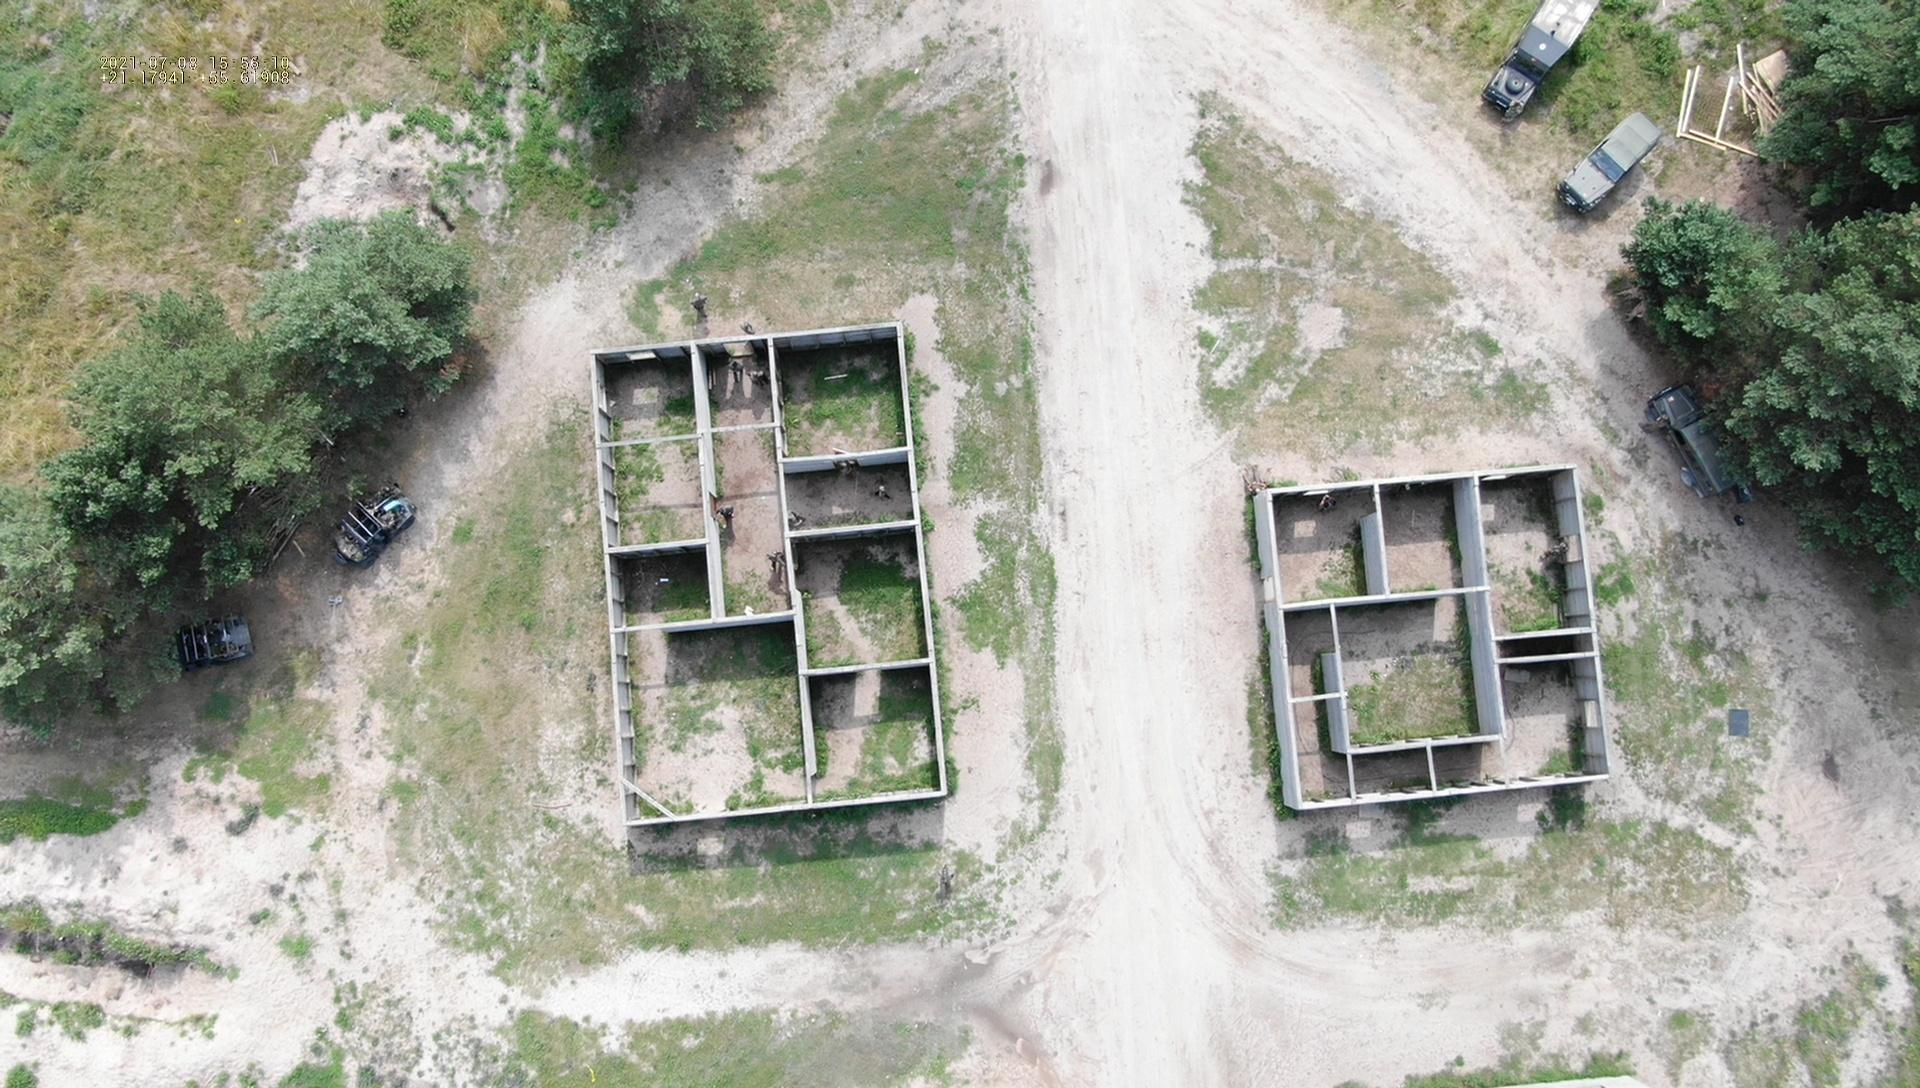Soldier: (1100, 721, 1251, 901), (957, 135, 1071, 299), (1402, 158, 1497, 244), (597, 15, 708, 84), (495, 440, 580, 528), (988, 943, 1056, 1041), (845, 524, 916, 615), (1040, 210, 1106, 299), (309, 475, 392, 545), (463, 377, 543, 440), (1007, 542, 1073, 600)
